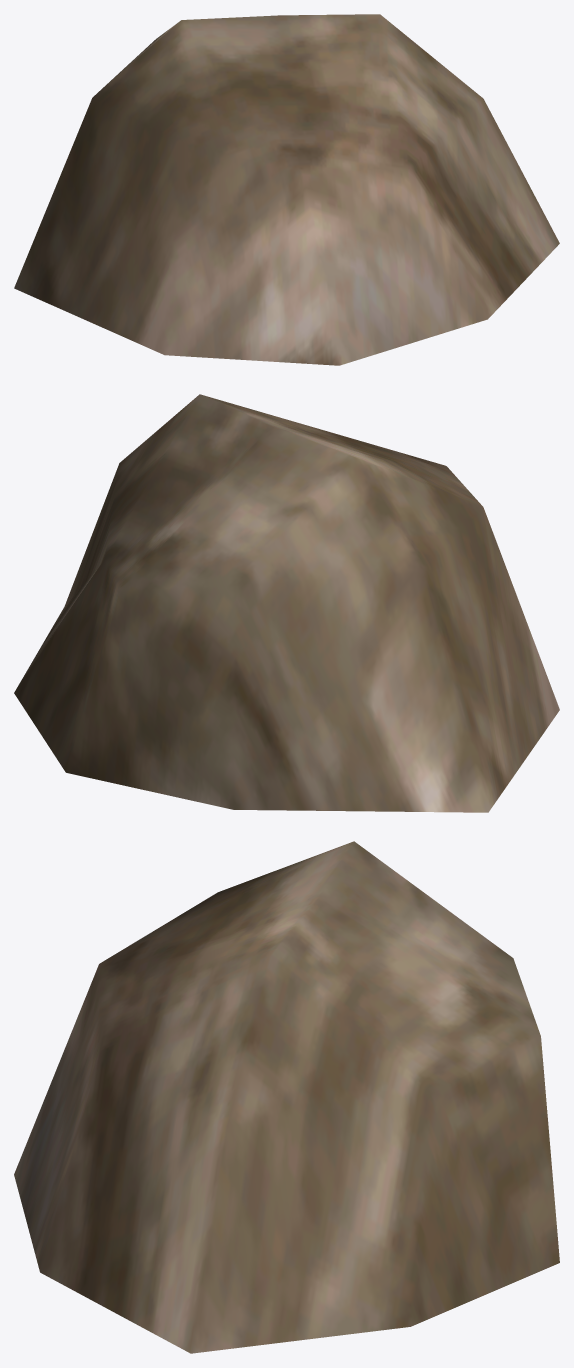
The model's file is OVERHILL_A_01_ROCK83.fbx.
The picture shows the model from 3 angles, top to bottom: view 1: azimuth 30°, elevation 25°; view 2: azimuth 150°, elevation 25°; view 3: azimuth 270°, elevation 25°; orthographic projection. The views are drawn at different scales.
Parts seen in each view (by area): view 1: OVERHILL_A_01_ROCK83; view 2: OVERHILL_A_01_ROCK83; view 3: OVERHILL_A_01_ROCK83.
Boxes of the visible parts, x1,y1,x2,y2 form: OVERHILL_A_01_ROCK83: (14, 14, 559, 365); OVERHILL_A_01_ROCK83: (14, 394, 559, 812); OVERHILL_A_01_ROCK83: (14, 841, 559, 1353).
Bounding box in the file's own units: 4360 × 2312 × 3585.
1 material, 1 textured.
